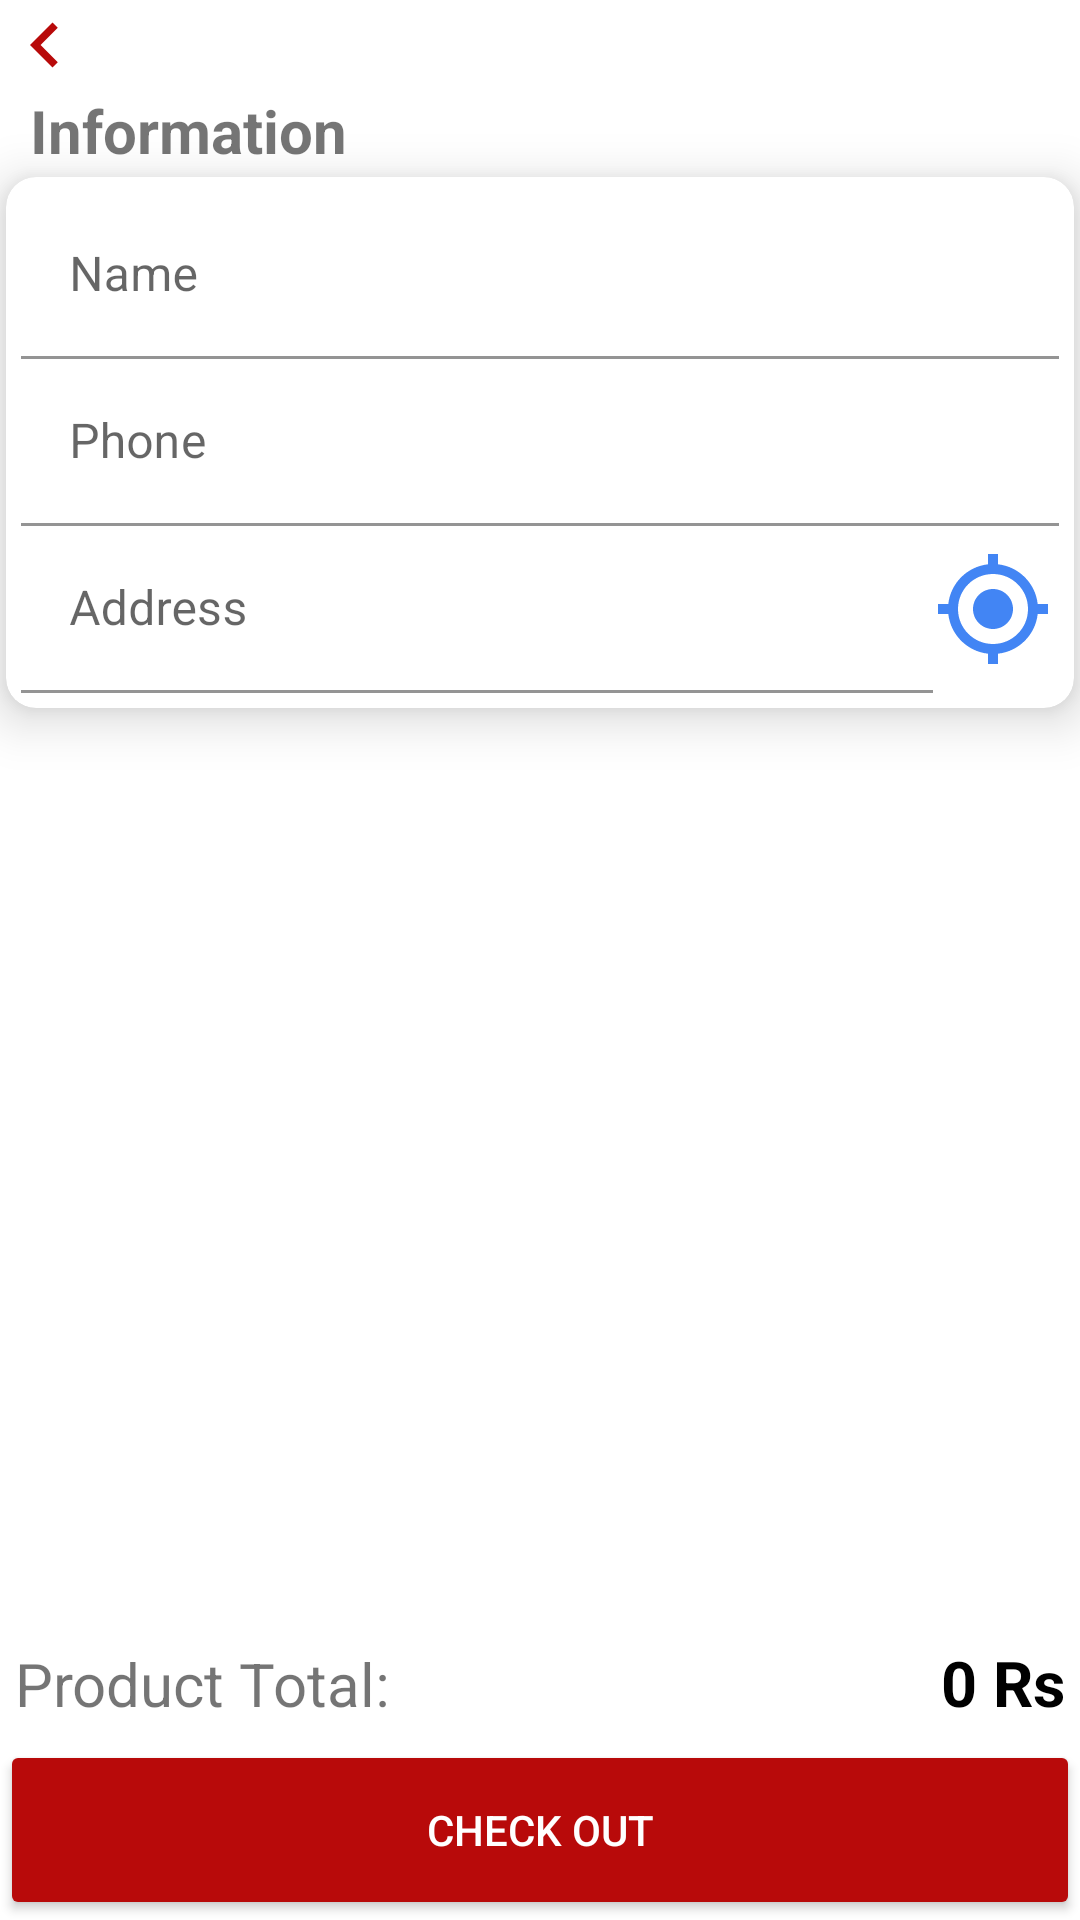

Icons on this 1080 × 1920 Android screen, each with the point to tap as (x,y):
location: (993,609)
navigate before: (44,45)
